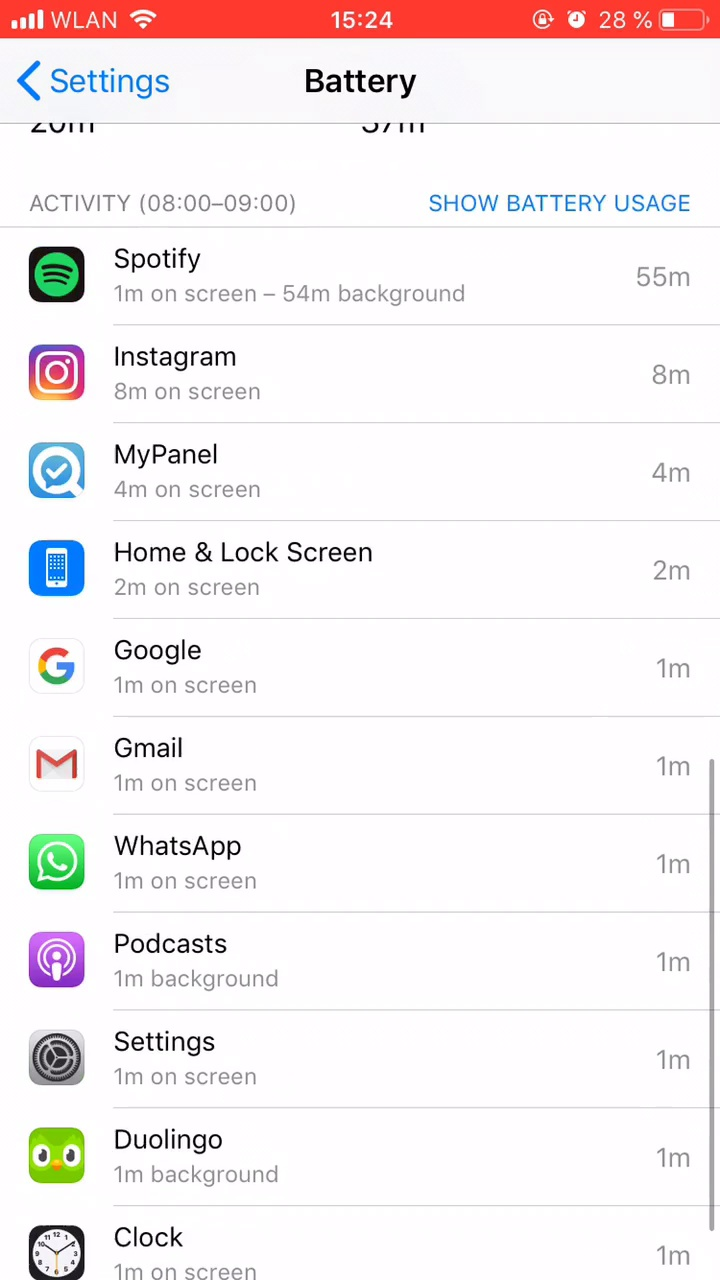activity: (21, 180, 321, 222)
app: (16, 240, 710, 313), (17, 330, 711, 403), (17, 435, 711, 508), (13, 533, 707, 606), (15, 629, 709, 702), (8, 724, 702, 797), (13, 826, 707, 899), (7, 927, 701, 1000), (12, 1023, 706, 1096), (10, 1126, 704, 1199), (8, 1126, 702, 1199)
